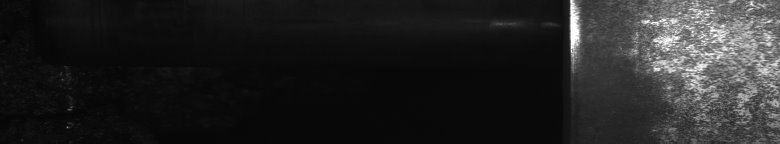kb: (620, 4, 776, 136)
